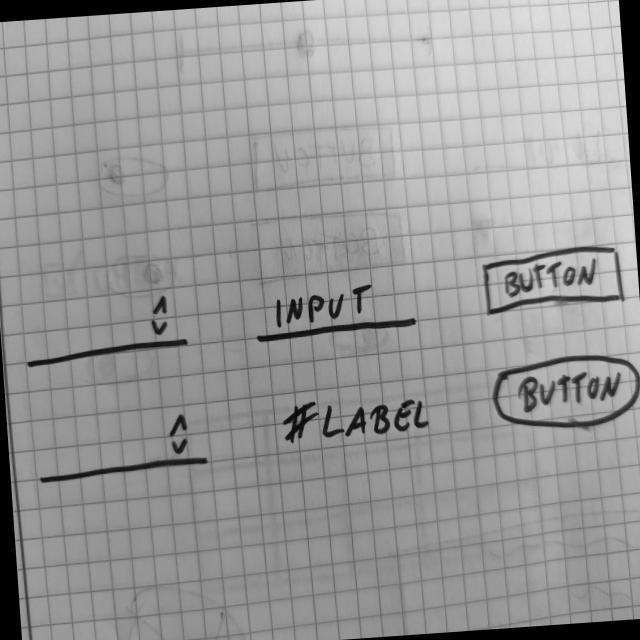button: (487, 349, 640, 437), (479, 242, 628, 318)
input: (253, 274, 422, 348)
label: (277, 388, 432, 449)
number-input: (34, 406, 216, 491), (21, 291, 194, 372)
